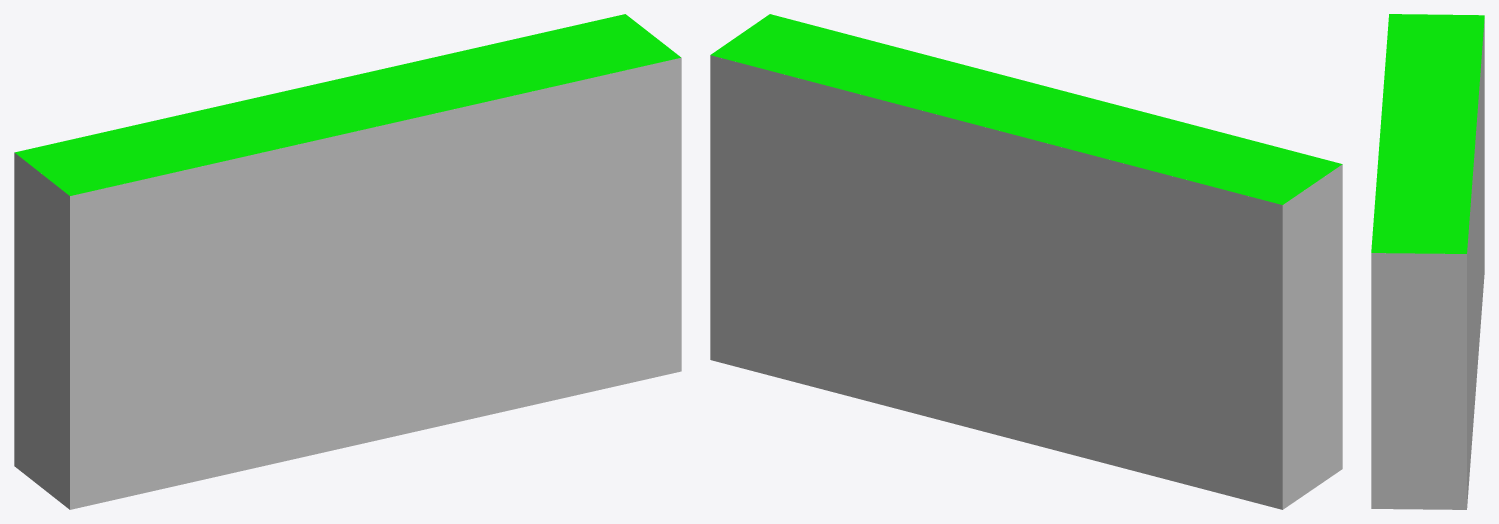
File: DEHB01AL50W00087.gltf
3 views of the same model, side by side, from view 1: azimuth 30°, elevation 25°; view 2: azimuth 150°, elevation 25°; view 3: azimuth 270°, elevation 25° (orthographic). The views are drawn at different scales.
Parts seen in each view (by area): view 1: Z_UP; view 2: Z_UP; view 3: Z_UP.
Part boxes in pixels (<box>): Z_UP: <box>14,14,681,509</box>; Z_UP: <box>710,14,1342,509</box>; Z_UP: <box>1371,14,1484,509</box>.
Bounding box in the file's own units: 5.75 × 2.86 × 1.15.
